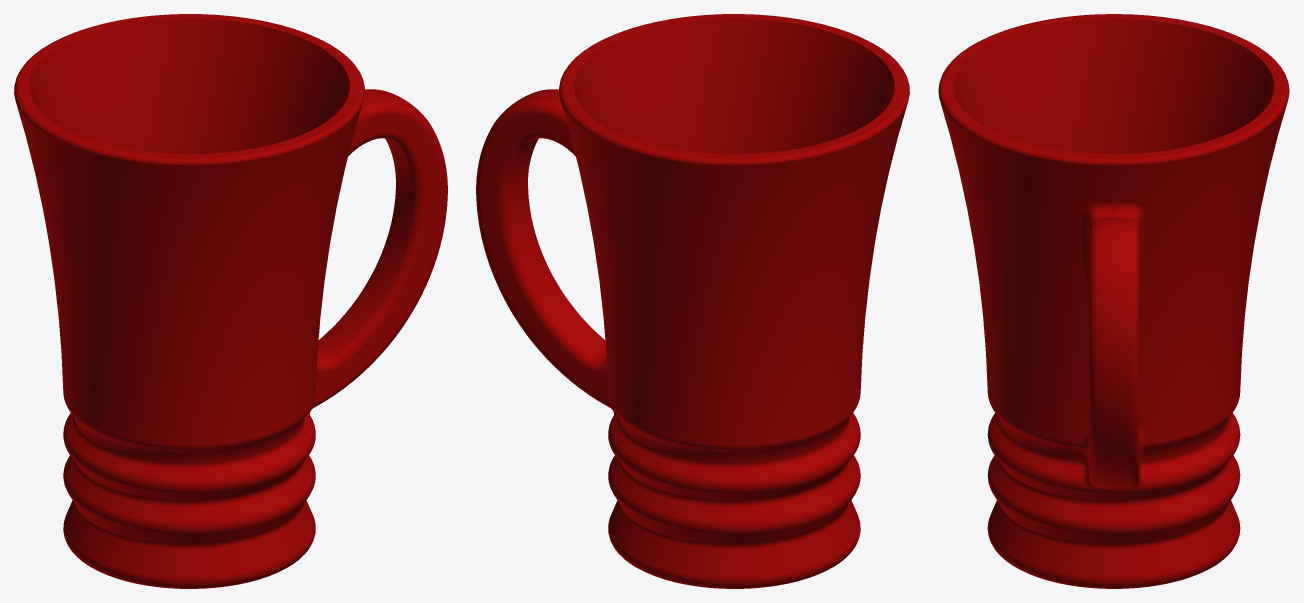
The model's file is CM-MUG026B.glb.
3 views of the same model, side by side, from view 1: azimuth 30°, elevation 25°; view 2: azimuth 150°, elevation 25°; view 3: azimuth 270°, elevation 25° (orthographic).
Bounding box in the file's own units: 0.092 × 0.099 × 0.0695.
